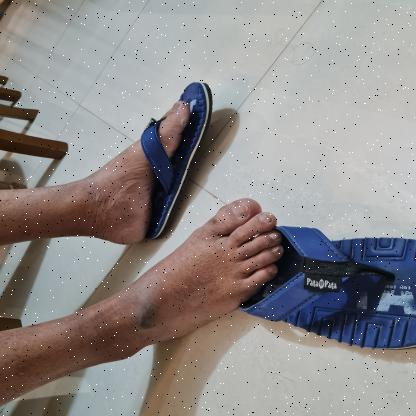leg: (0, 189, 290, 415), (0, 71, 222, 250)
